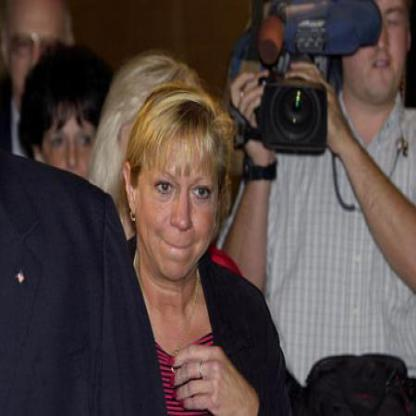face: (138, 94, 224, 283), (43, 73, 104, 210), (343, 1, 412, 103), (11, 1, 67, 115)
